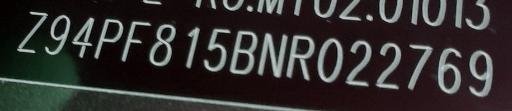letter: (284, 33, 318, 80), (255, 30, 287, 77), (374, 41, 404, 90), (314, 37, 346, 82), (16, 11, 50, 53), (344, 39, 374, 86), (404, 42, 434, 89), (434, 46, 464, 93), (464, 49, 494, 96), (92, 17, 124, 60), (228, 30, 260, 73), (202, 26, 232, 71), (120, 20, 152, 61), (44, 12, 72, 56), (150, 22, 178, 65), (71, 14, 97, 59), (179, 25, 203, 68)
